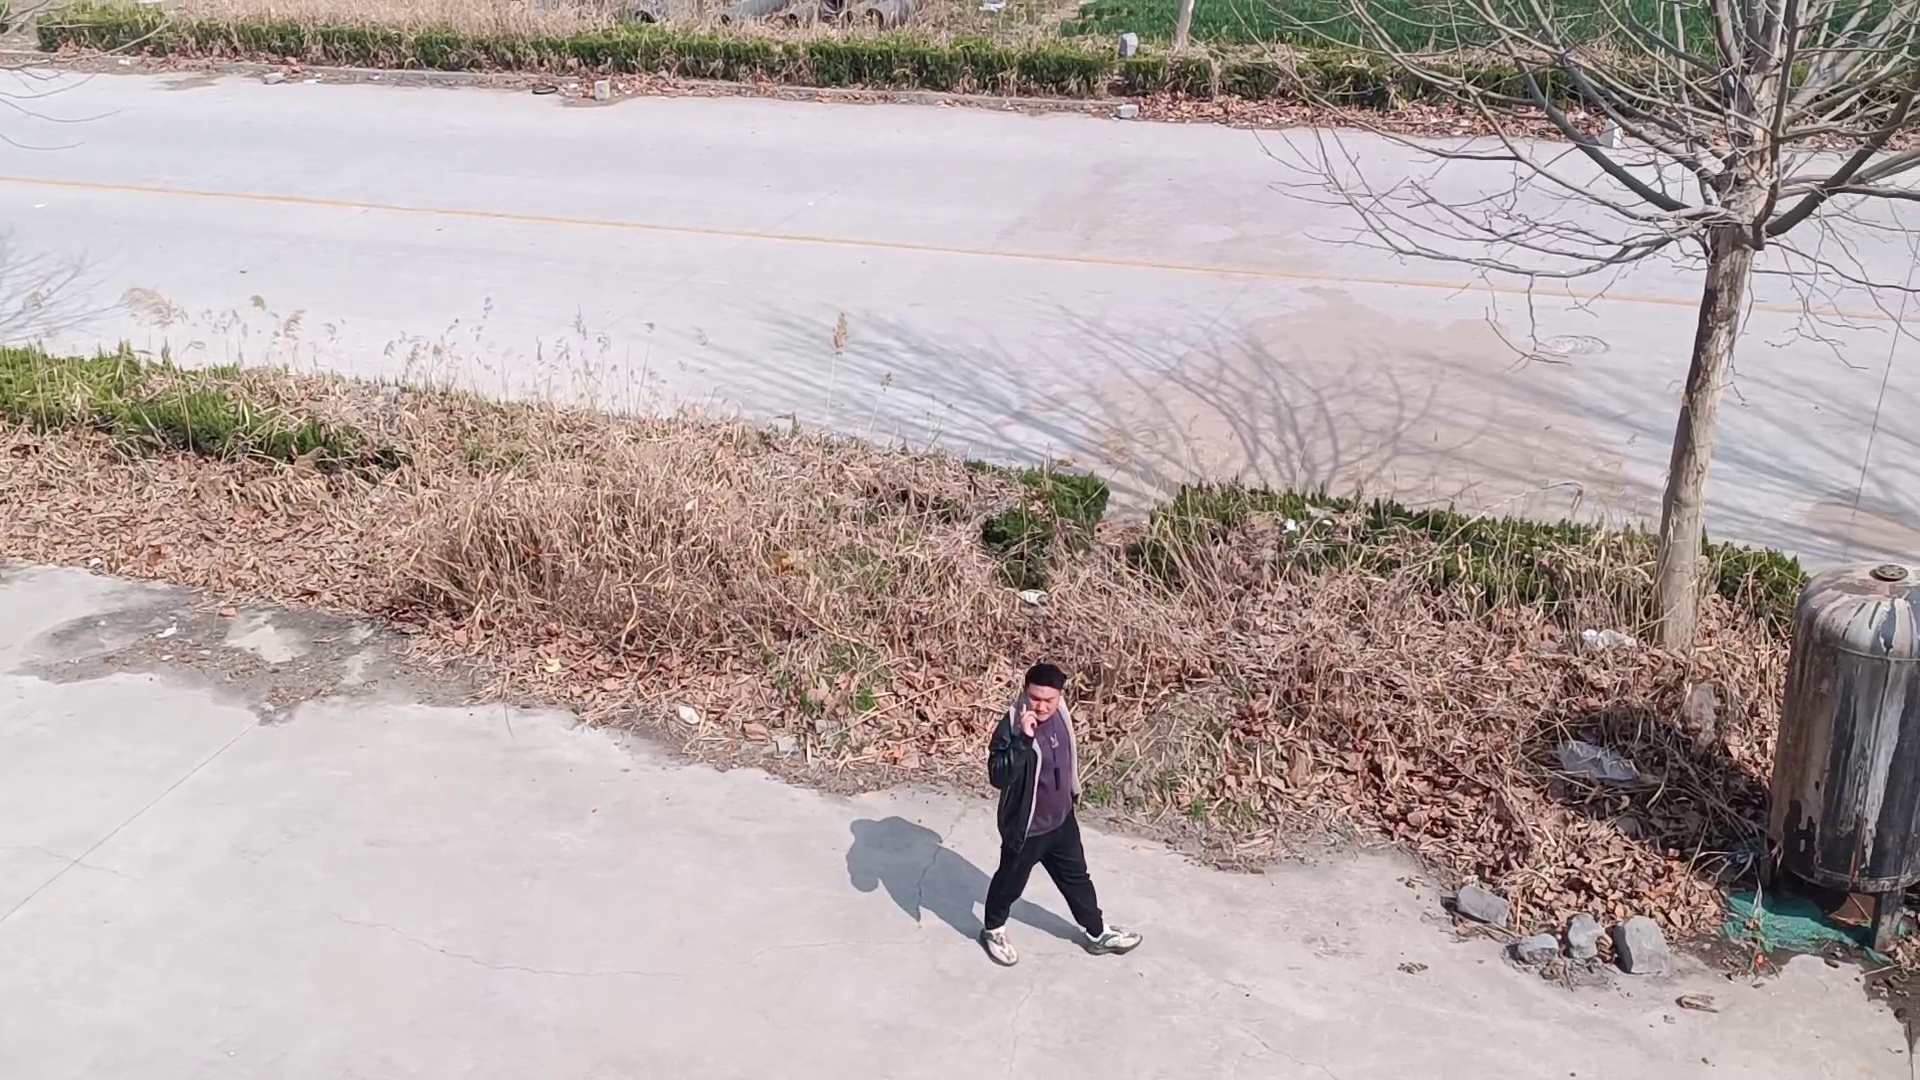phone: (1011, 657, 1069, 732)
